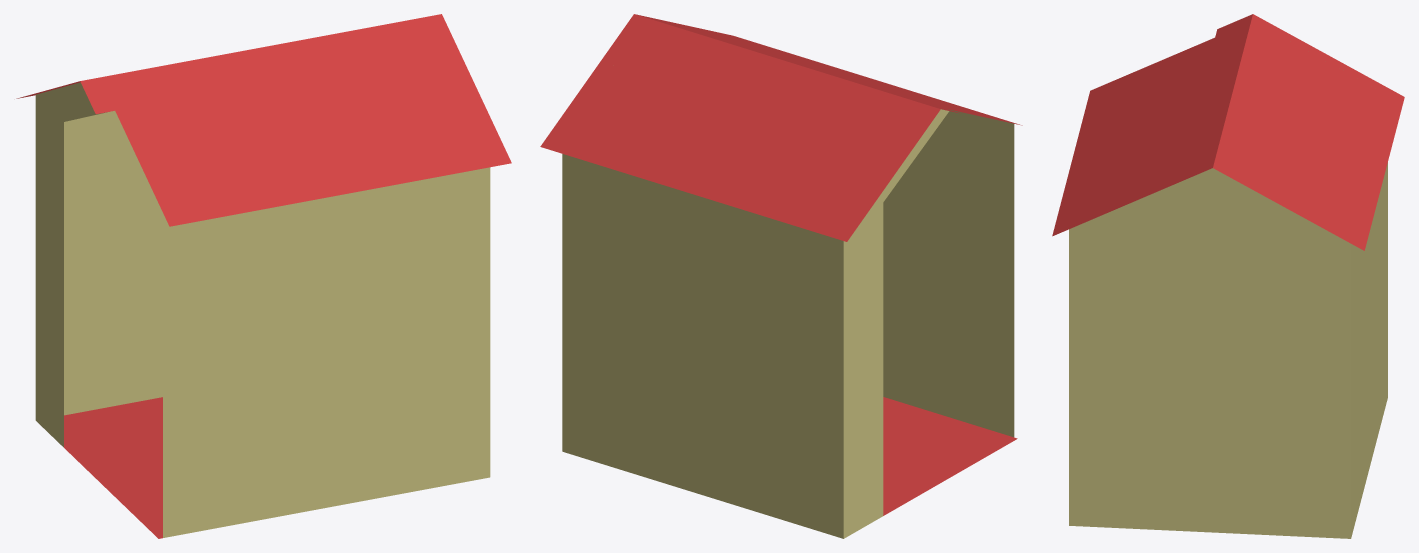
3 views of the same model, side by side, from view 1: azimuth 30°, elevation 25°; view 2: azimuth 150°, elevation 25°; view 3: azimuth 270°, elevation 25° (orthographic). The views are drawn at different scales.
Size of the model in its own units: 12.59 by 11.52 by 13.38.
